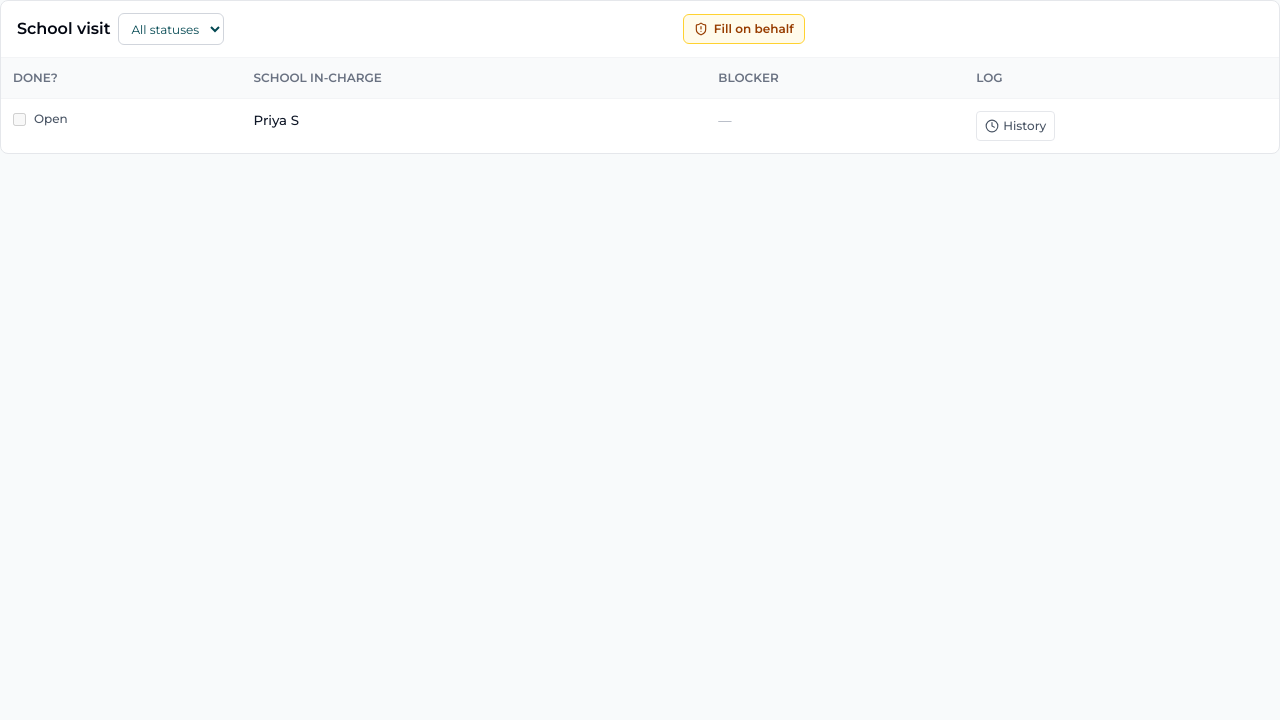
Scenario: starting a session › will not start without a reason
The image size is (1280, 720).
Click the button "Fill on behalf". click: (744, 29)
box: [683,14,805,44]
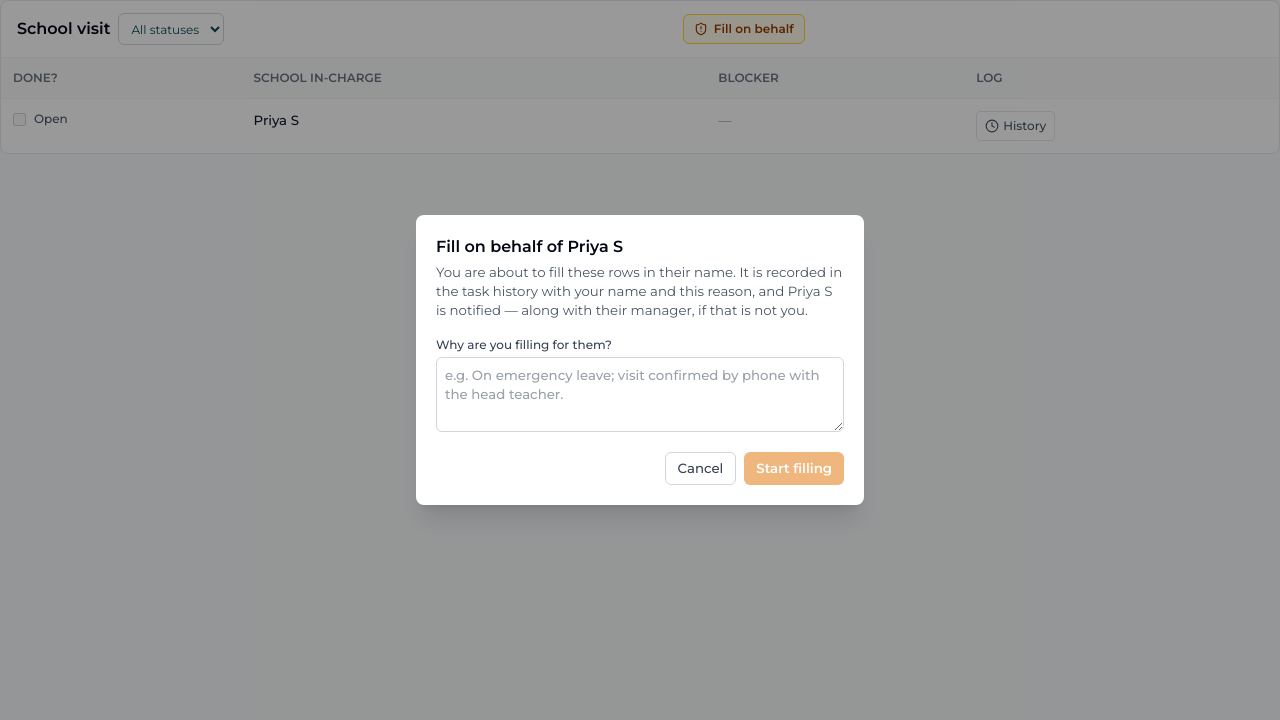
expect the button "Start filling" is disabled: met, box [744,452,844,484]
